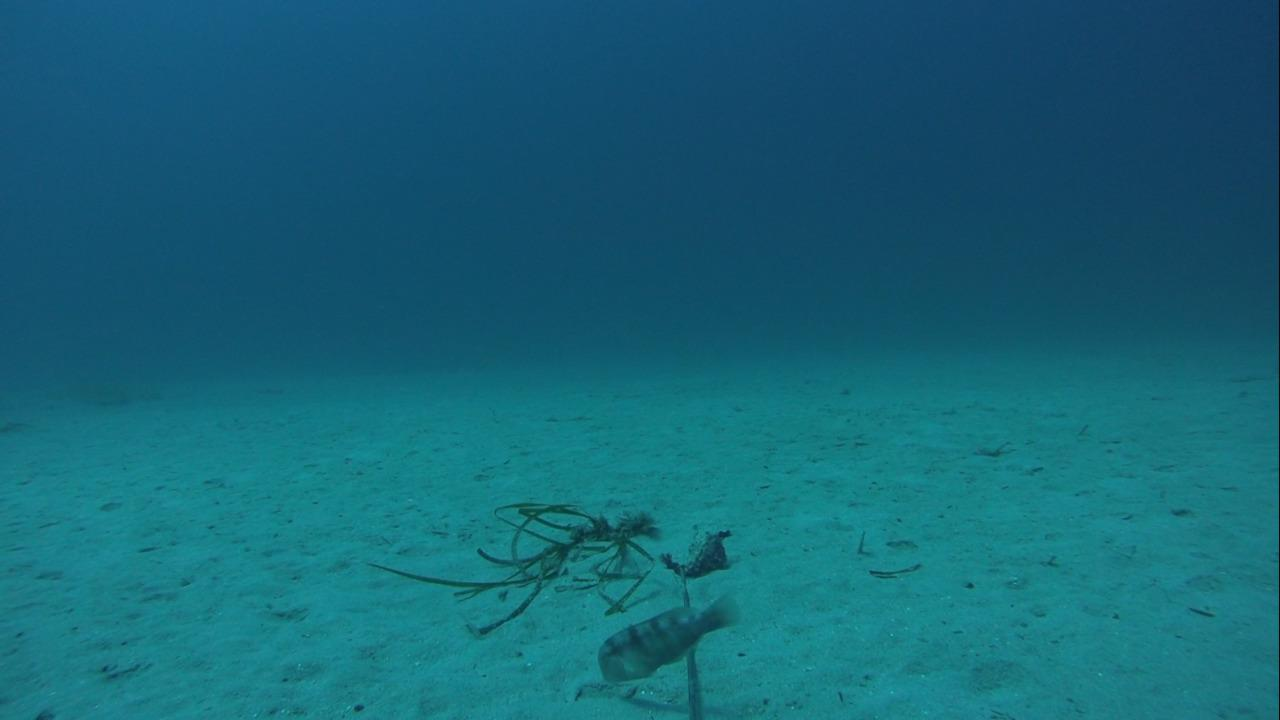raor: (591, 593, 746, 686)
